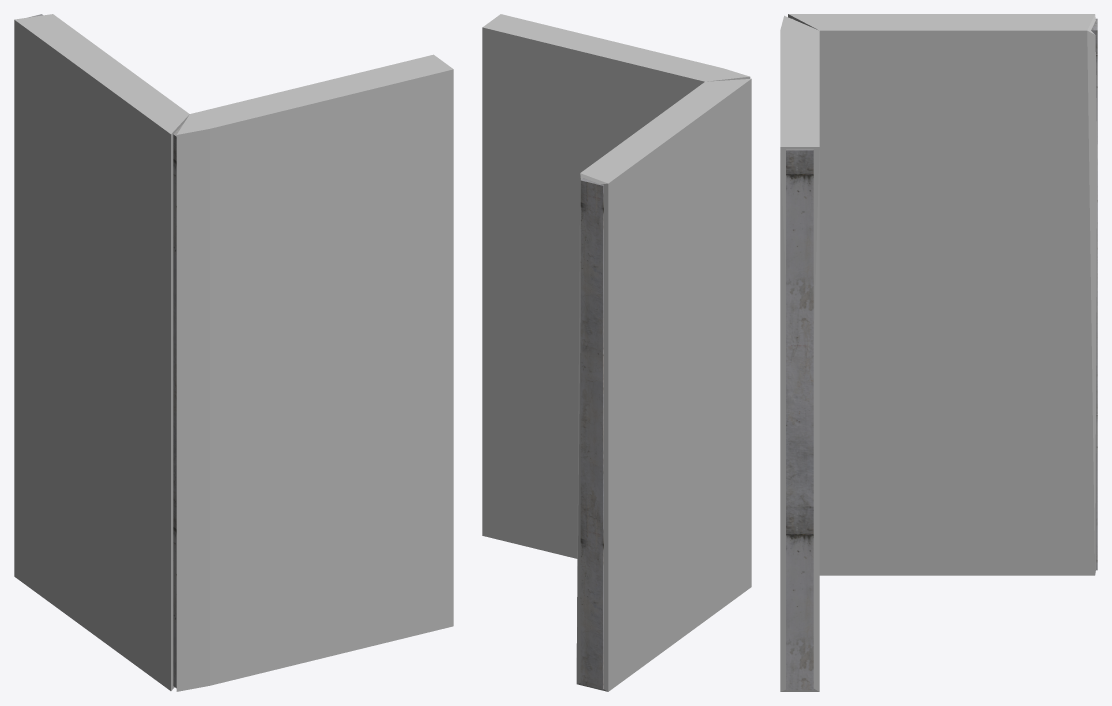
Rendered from SM_Wall_Corner_150_01.fbx.
The picture shows the model from 3 angles, left to right: view 1: azimuth 30°, elevation 25°; view 2: azimuth 150°, elevation 25°; view 3: azimuth 270°, elevation 25°; orthographic projection. The views are drawn at different scales.
Visible parts, largest first — view 1: SM_Wall_Corner_150_01_ConvexHulls, SM_Wall_Corner_150_01; view 2: SM_Wall_Corner_150_01_ConvexHulls, SM_Wall_Corner_150_01; view 3: SM_Wall_Corner_150_01_ConvexHulls, SM_Wall_Corner_150_01.
Part boxes in pixels (x1,y1,x2,y2): SM_Wall_Corner_150_01_ConvexHulls: (14,14,453,691); SM_Wall_Corner_150_01: (28,14,184,688); SM_Wall_Corner_150_01_ConvexHulls: (482,14,751,691); SM_Wall_Corner_150_01: (580,178,603,689); SM_Wall_Corner_150_01_ConvexHulls: (780,14,1097,691); SM_Wall_Corner_150_01: (786,18,1097,690).
Bounding box in the file's own units: 160 × 160 × 303.
